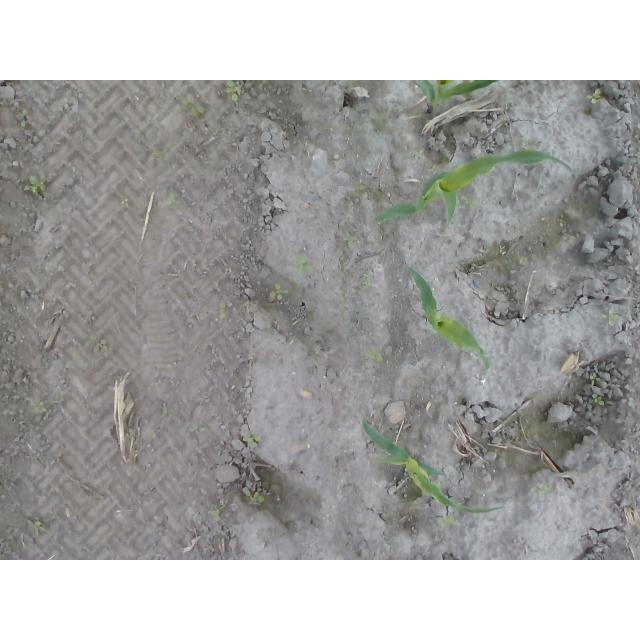Maize: (369, 149, 576, 227), (364, 418, 505, 515), (405, 266, 491, 371), (413, 80, 499, 117)
Weeds: (294, 254, 315, 278), (223, 81, 241, 104), (268, 283, 289, 301), (182, 97, 202, 115), (243, 431, 261, 450), (28, 175, 44, 194), (601, 311, 620, 327), (95, 336, 110, 353), (586, 88, 600, 105), (248, 491, 265, 505), (368, 350, 385, 363), (591, 392, 605, 406), (532, 484, 545, 497), (463, 196, 476, 209), (212, 510, 225, 523), (588, 373, 600, 386), (32, 401, 46, 412), (218, 303, 226, 321), (345, 233, 355, 247), (443, 515, 455, 526), (191, 424, 205, 432), (166, 192, 174, 204)
